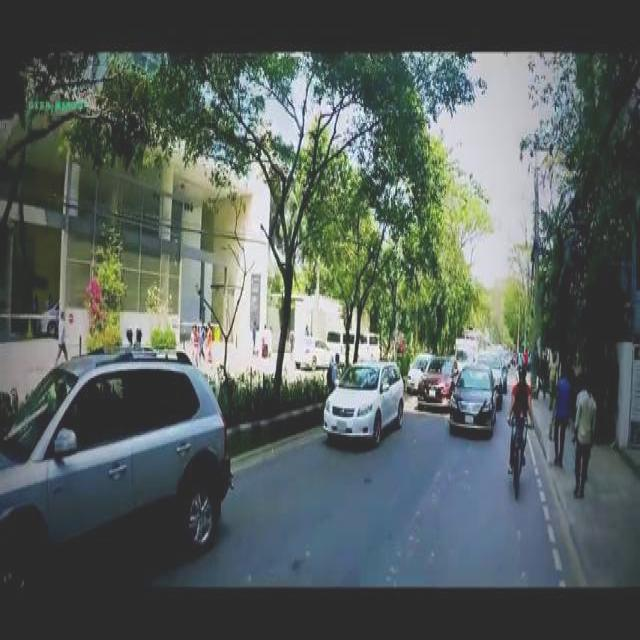MOTORCYCLE: (505, 412, 528, 500)
SUV: (0, 349, 234, 585), (321, 367, 409, 451), (450, 360, 497, 439)
